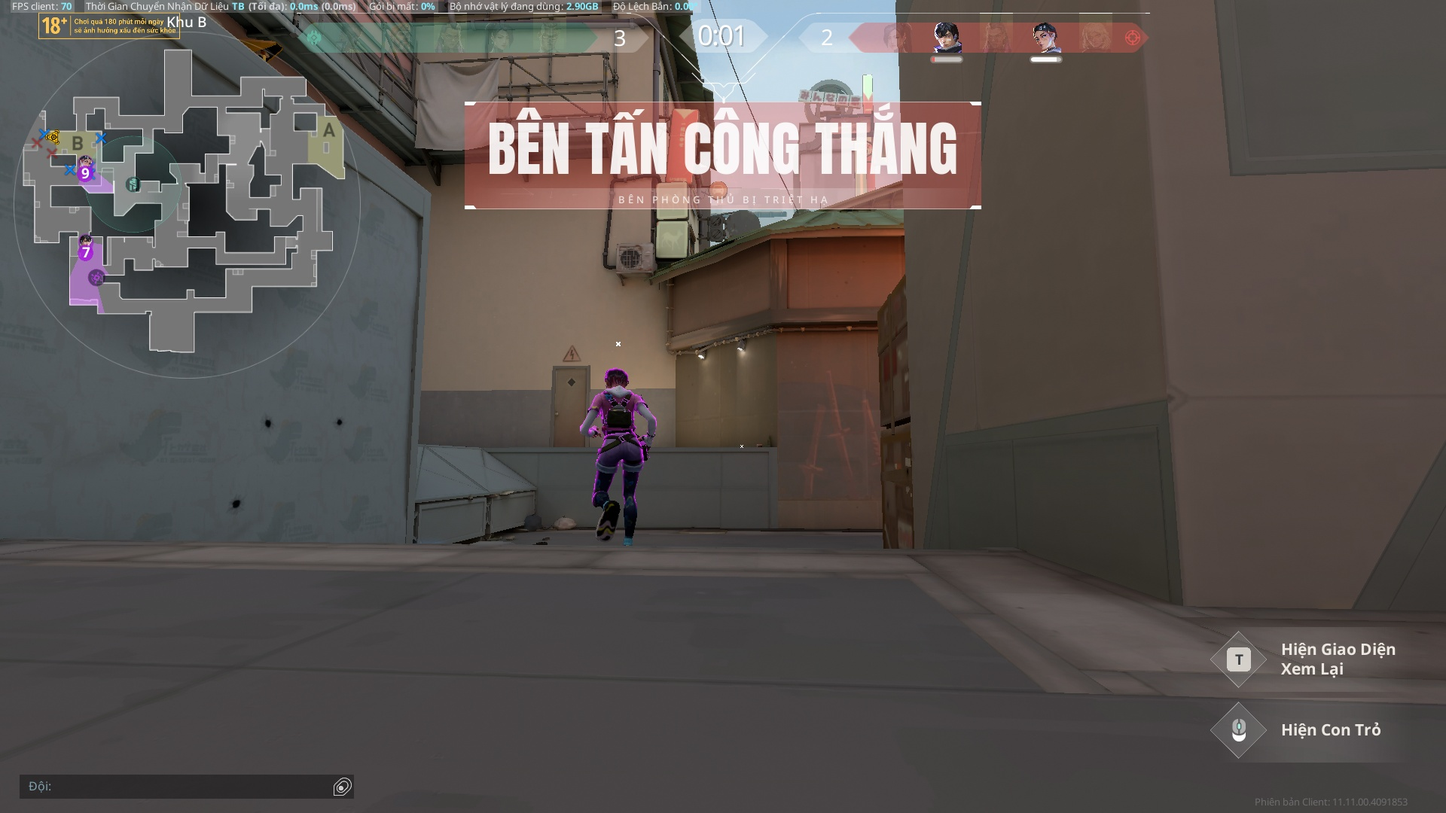body: (588, 388, 639, 435)
head: (603, 367, 628, 386)
